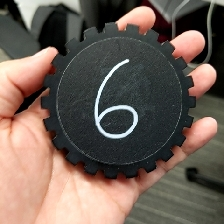gear: (39, 21, 198, 181)
